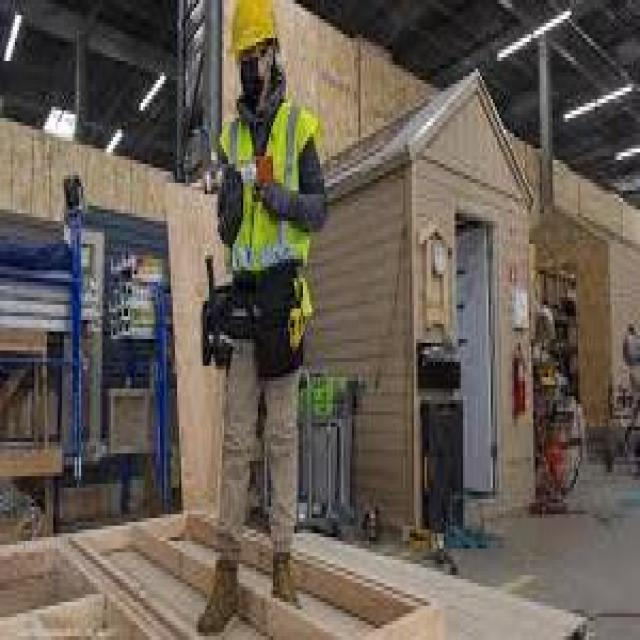Reflective-Jacket: (213, 91, 333, 324)
Safety-Helmet: (222, 0, 288, 76)
